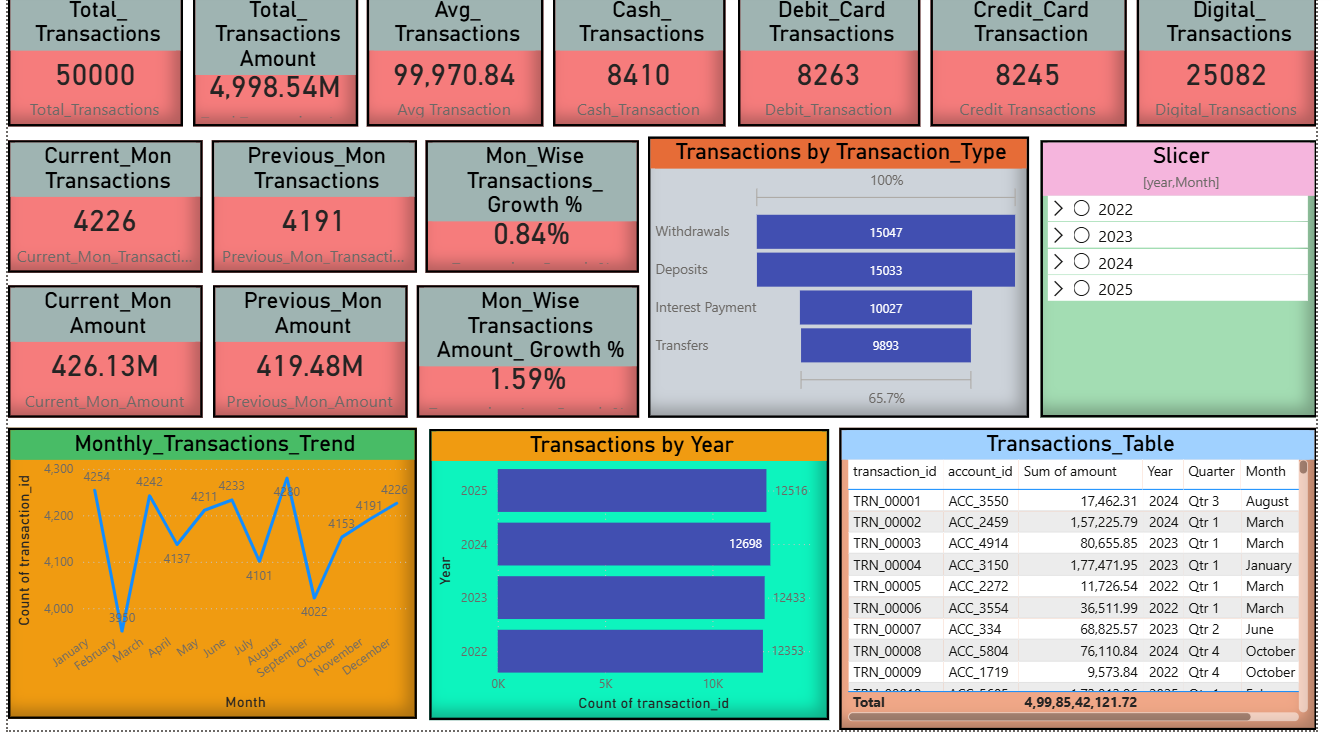

Layout of this report page (visuals, bound fields, positions):
{"tool":"powerbi","page":{"name":"Transaction_Analysis","canvas":[1280,720],"ordinal":2},"visuals":[{"type":"card","title":"Total_ Transactions","fields":{"Values":["All Measures.Total_Transactions"]},"box":[0,0,171.2,129.6],"z":0},{"type":"card","title":"Avg_ Transactions","fields":{"Values":["All Measures.Avg Transaction"]},"box":[351,0,172.4,129.6],"z":1},{"type":"card","title":"Total_ Transactions Amount","fields":{"Values":["All Measures.Total Transaction Amount"]},"box":[181,0,161.4,129.6],"z":2},{"type":"card","title":"Cash_ Transactions","fields":{"Values":["All Measures.Cash_Transaction"]},"box":[533.2,0,168.8,129.6],"z":3},{"type":"card","title":"Debit_Card    Transactions","fields":{"Values":["All Measures.Debit_Transaction"]},"box":[714.1,0,178.5,129.6],"z":4},{"type":"card","title":"Credit_Card   Transaction","fields":{"Values":["All Measures.Credit Transactions"]},"box":[902.5,0,192,129.6],"z":5},{"type":"card","title":"Digital_  Transactions","fields":{"Values":["All Measures.Others_Mode_Transactions"]},"box":[1104.2,0,176.1,129.6],"z":6},{"type":"card","title":"Current_Mon  Transactions","fields":{"Values":["All Measures.Current_Mon_Transactions"]},"box":[0,143.1,190.8,129.6],"z":7},{"type":"card","title":"Previous_Mon Transactions","fields":{"Values":["All Measures.Previous Month Transactions"]},"box":[199.3,143.1,200.5,129.6],"z":8},{"type":"card","title":"Mon_Wise Transactions_ Growth %","fields":{"Values":["All Measures.Transaction_Growth %"]},"box":[408.4,143.1,209.1,129.6],"z":9},{"type":"card","title":"Current_Mon Amount","fields":{"Values":["All Measures.Current_Month_Amount"]},"box":[0,284.9,190.8,129.6],"z":10},{"type":"card","title":"Previous_Mon Amount","fields":{"Values":["All Measures.Previous_Mon_Amount"]},"box":[200.5,284.9,190.8,129.6],"z":11},{"type":"card","title":"Mon_Wise Transactions Amount_ Growth %","fields":{"Values":["All Measures.Transaction_Amt_Growth %"]},"box":[399.9,284.9,217.7,129.6],"z":12},{"type":"lineChart","title":"Monthly_Transactions_Trend","fields":{"Y":["CountNonNull(transactions_Data.transaction_id)"],"Category":["transactions_Data.transaction_date.Variation.Date Hierarchy.Month"]},"box":[0,424.3,399.9,284.9],"z":13},{"type":"funnel","title":"Transactions by Transaction_Type","fields":{"Category":["transactions_Data.transaction_type"],"Y":["CountNonNull(transactions_Data.transaction_id)"]},"box":[626.1,139.4,373,275.1],"z":14},{"type":"listSlicer","title":"Slicer","fields":{"Values":["transactions_Data.Year","transactions_Data.Month_Name"]},"box":[1010.1,143.1,270.2,271.5],"z":15},{"type":"barChart","title":"Transactions by Year","fields":{"Y":["CountNonNull(transactions_Data.transaction_id)"],"Category":["transactions_Data.Year"]},"box":[412.1,425.5,391.3,284.9],"z":16},{"type":"tableEx","title":"Transactions_Table","fields":{"Values":["transactions_Data.transaction_id","transactions_Data.account_id","Sum(transactions_Data.amount)","transactions_Data.transaction_date.Variation.Date Hierarchy.Year","transactions_Data.transaction_date.Variation.Date Hierarchy.Quarter","transactions_Data.transaction_date.Variation.Date Hierarchy.Month","transactions_Data.transaction_date.Variation.Date Hierarchy.Day"]},"box":[813.2,424.3,467.1,295.9],"z":17}]}

Visuals, with their boxes in screenshot pixels (x1, y1, x2, y2), scaled from the page's 1280x720 canvas onto the 1331x734 screenshot:
"Total_ Transactions" card: bbox(0, 0, 178, 132)
"Avg_ Transactions" card: bbox(365, 0, 544, 132)
"Total_ Transactions Amount" card: bbox(188, 0, 356, 132)
"Cash_ Transactions" card: bbox(554, 0, 730, 132)
"Debit_Card    Transactions" card: bbox(743, 0, 928, 132)
"Credit_Card   Transaction" card: bbox(938, 0, 1138, 132)
"Digital_  Transactions" card: bbox(1148, 0, 1330, 132)
"Current_Mon  Transactions" card: bbox(0, 146, 198, 278)
"Previous_Mon Transactions" card: bbox(207, 146, 416, 278)
"Mon_Wise Transactions_ Growth %" card: bbox(425, 146, 642, 278)
"Current_Mon Amount" card: bbox(0, 290, 198, 423)
"Previous_Mon Amount" card: bbox(208, 290, 407, 423)
"Mon_Wise Transactions Amount_ Growth %" card: bbox(416, 290, 642, 423)
"Monthly_Transactions_Trend" lineChart: bbox(0, 433, 416, 723)
"Transactions by Transaction_Type" funnel: bbox(651, 142, 1039, 423)
"Slicer" listSlicer: bbox(1050, 146, 1330, 423)
"Transactions by Year" barChart: bbox(429, 434, 835, 724)
"Transactions_Table" tableEx: bbox(846, 433, 1330, 733)
